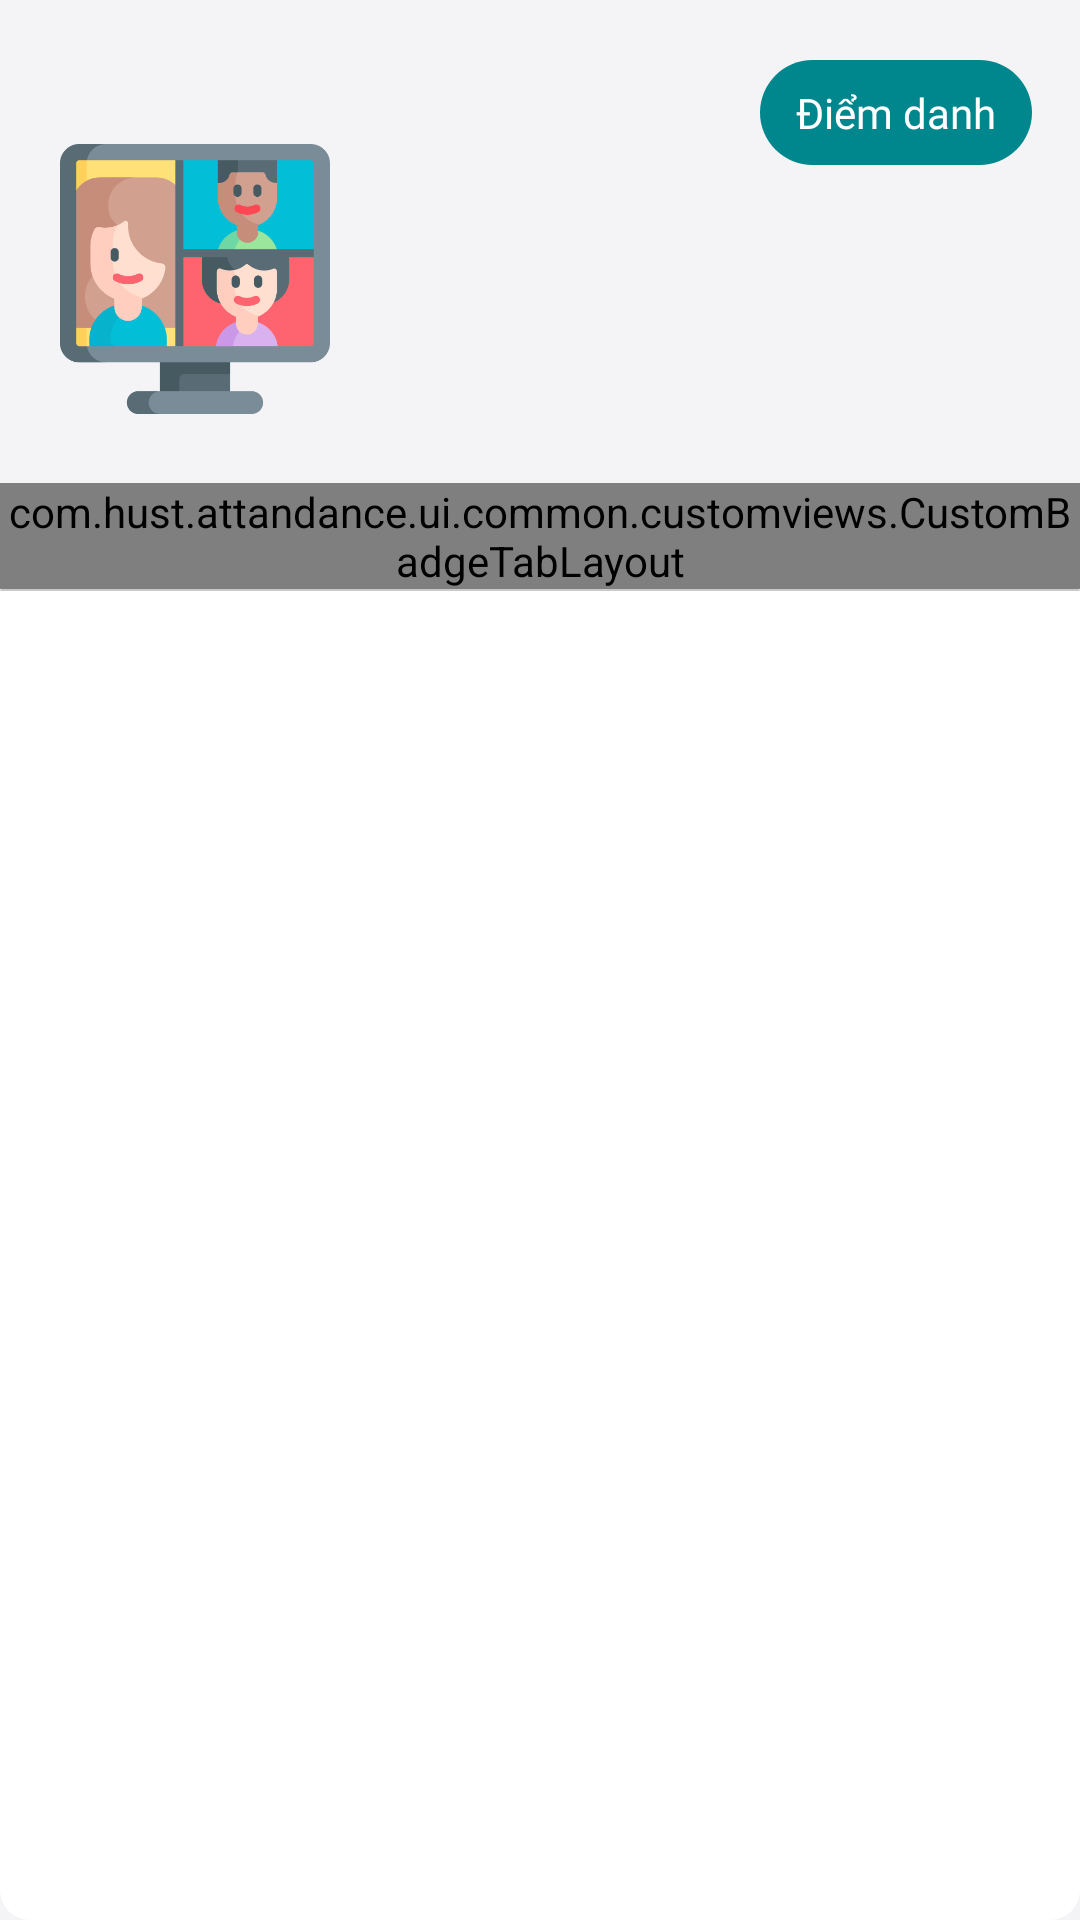

Named icons in this screenshot (1080×1920) and their centers, (x=x, y=y):
class detail: (x=195, y=279)
